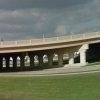Bridge: (5, 22, 95, 67)
